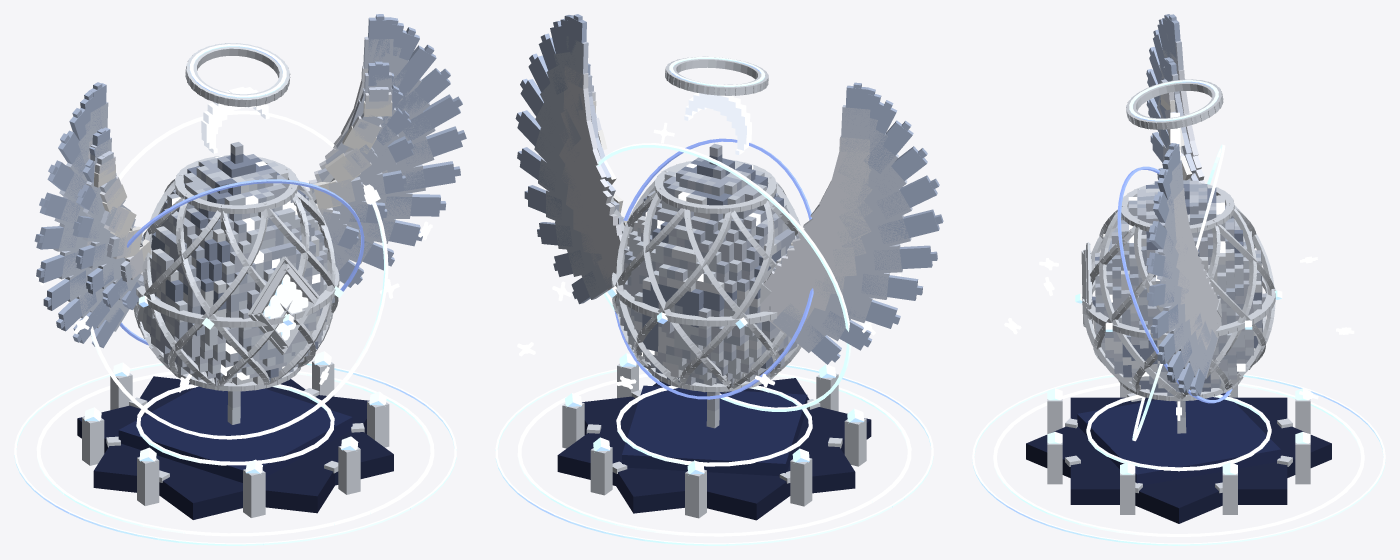
File: egg_leg_luna.glb
3 renders of one model, left to right at view 1: azimuth 30°, elevation 25°; view 2: azimuth 150°, elevation 25°; view 3: azimuth 270°, elevation 25°, orthographic. The views are drawn at different scales.
Parts seen in each view (by area): view 1: root_geo, wing_L_geo, shell_geo, wing_R_geo, egg_geo, floor_rings_geo, orbit1_geo, emblem_geo, halo_geo, orbit2_geo, crown_geo; view 2: root_geo, wing_R_geo, shell_geo, wing_L_geo, egg_geo, floor_rings_geo, orbit1_geo, halo_geo, orbit2_geo, crown_geo; view 3: root_geo, shell_geo, egg_geo, wing_L_geo, floor_rings_geo, wing_R_geo, halo_geo, orbit2_geo, orbit1_geo, emblem_geo.
Part boxes in pixels (<box>): root_geo: <box>77,351,393,519</box>; wing_L_geo: <box>306,14,466,287</box>; shell_geo: <box>137,142,334,424</box>; wing_R_geo: <box>34,82,151,348</box>; egg_geo: <box>133,155,343,391</box>; floor_rings_geo: <box>14,362,456,545</box>; orbit1_geo: <box>90,110,388,439</box>; emblem_geo: <box>248,256,319,354</box>; halo_geo: <box>185,43,290,106</box>; orbit2_geo: <box>120,179,364,345</box>; crown_geo: <box>201,87,269,153</box>; root_geo: <box>557,353,871,520</box>; wing_R_geo: <box>755,82,943,364</box>; shell_geo: <box>616,143,797,428</box>; wing_L_geo: <box>515,14,629,304</box>; egg_geo: <box>607,160,801,392</box>; floor_rings_geo: <box>495,364,933,545</box>; orbit1_geo: <box>597,143,851,411</box>; halo_geo: <box>665,56,768,95</box>; orbit2_geo: <box>614,138,813,399</box>; crown_geo: <box>684,92,751,154</box>; root_geo: <box>1026,383,1331,523</box>; shell_geo: <box>1092,180,1266,433</box>; egg_geo: <box>1075,182,1282,401</box>; wing_L_geo: <box>1146,143,1221,396</box>; floor_rings_geo: <box>972,374,1385,545</box>; wing_R_geo: <box>1146,14,1205,183</box>; halo_geo: <box>1126,79,1223,129</box>; orbit2_geo: <box>1117,166,1232,403</box>; orbit1_geo: <box>1132,144,1225,441</box>; emblem_geo: <box>1081,242,1092,327</box>.
Bounding box in the file's own units: 10.64 × 9.57 × 9.46.
